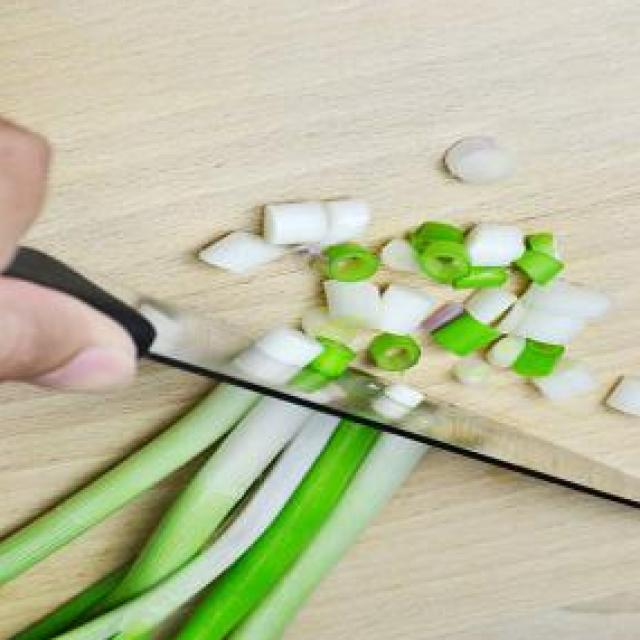knife: (20, 278, 640, 522)
